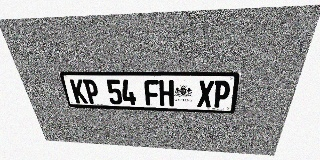4: (120, 80, 136, 105)
5: (106, 79, 123, 105)
F: (144, 80, 159, 106)
H: (159, 80, 174, 106)
K: (69, 79, 88, 104)
P: (212, 81, 231, 108), (82, 79, 101, 104)
X: (197, 80, 214, 107)
